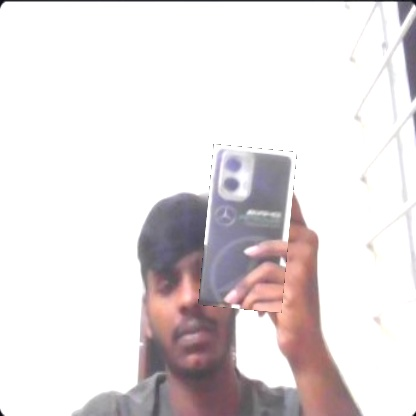cell_phone: (198, 144, 297, 313)
